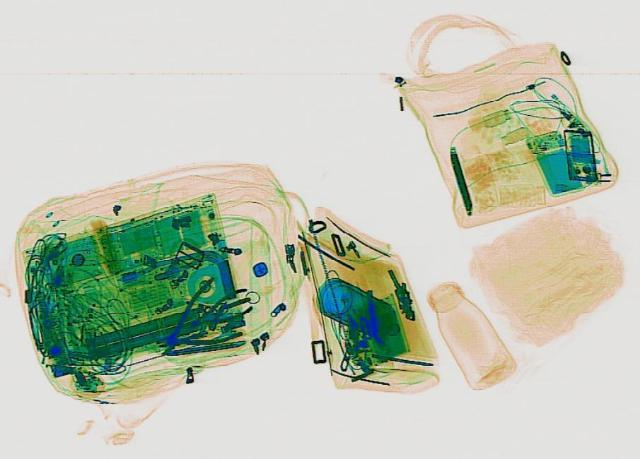Pliers: (127, 274, 270, 366), (179, 284, 265, 334)
